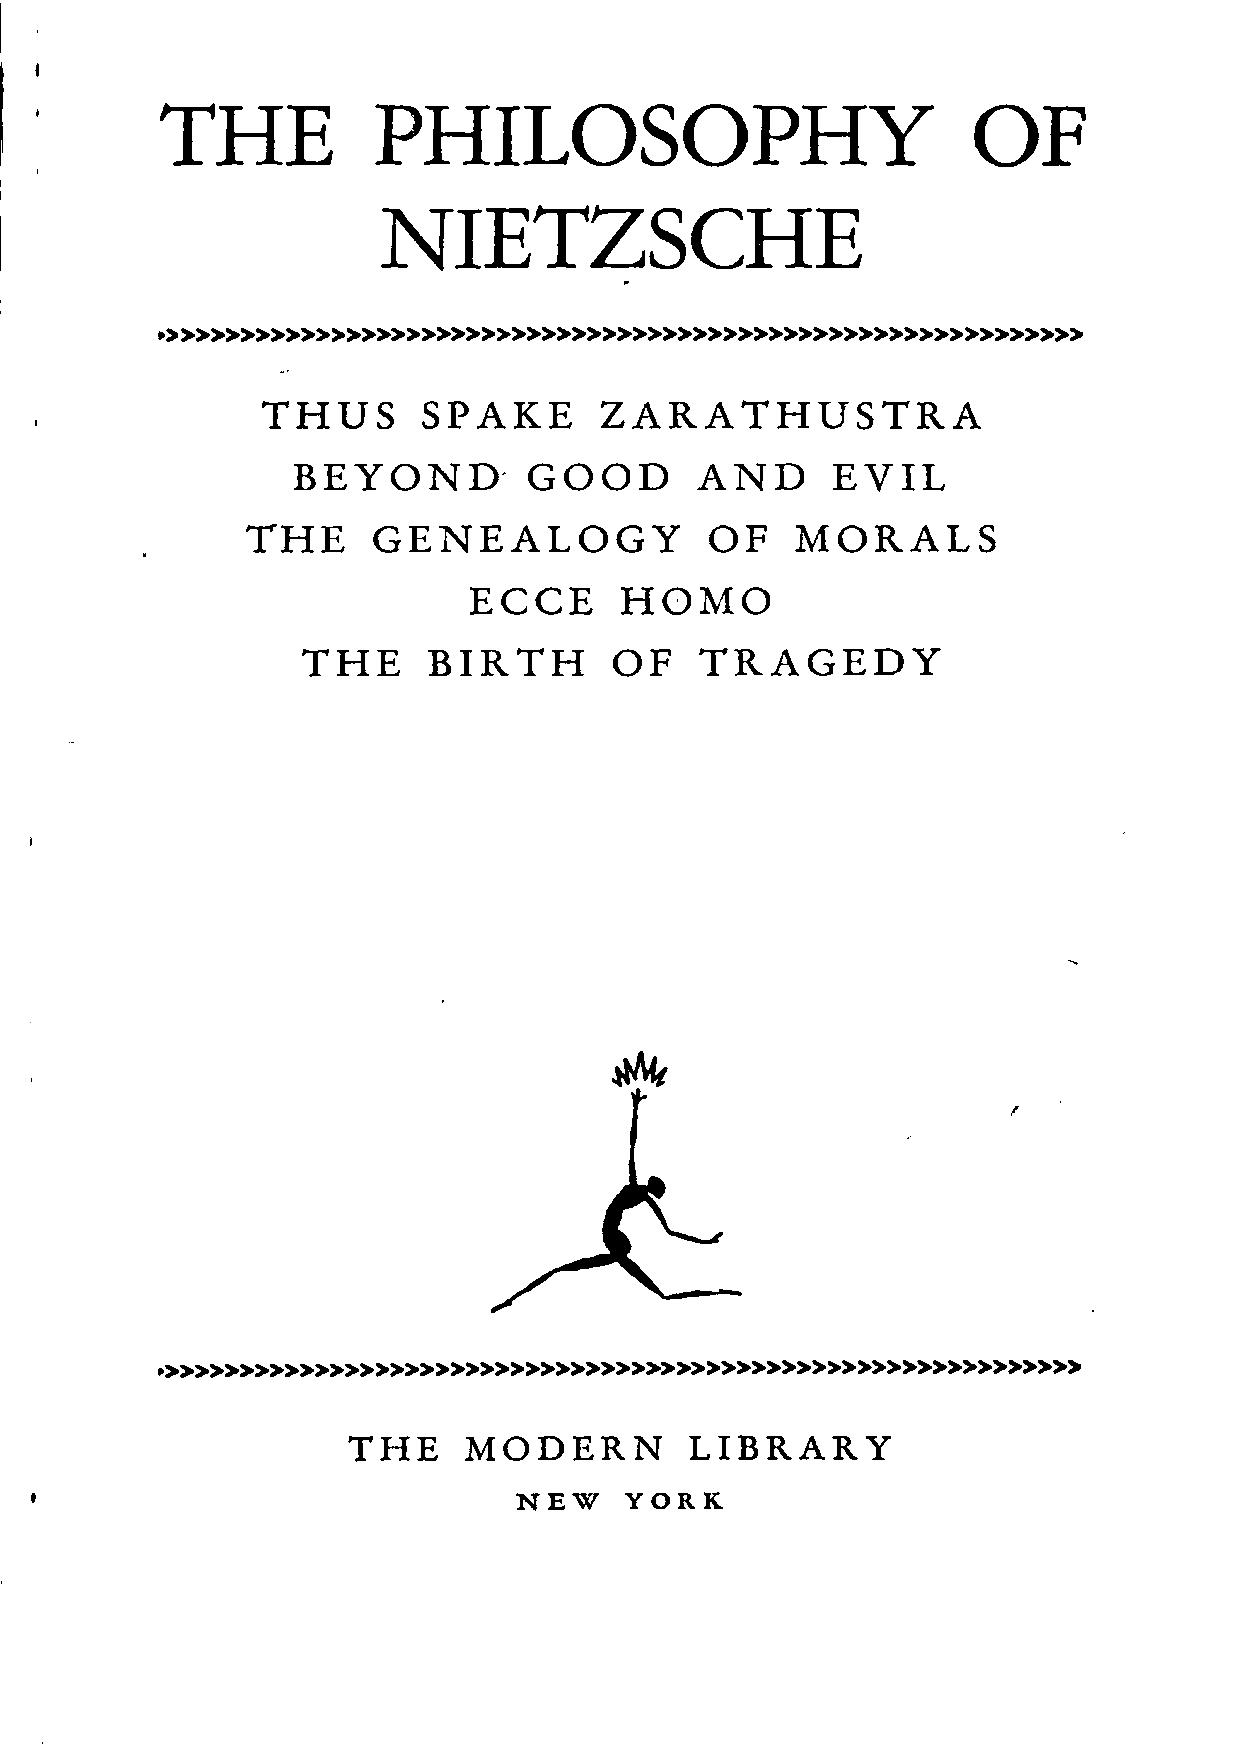title: (154, 102, 1088, 272)
